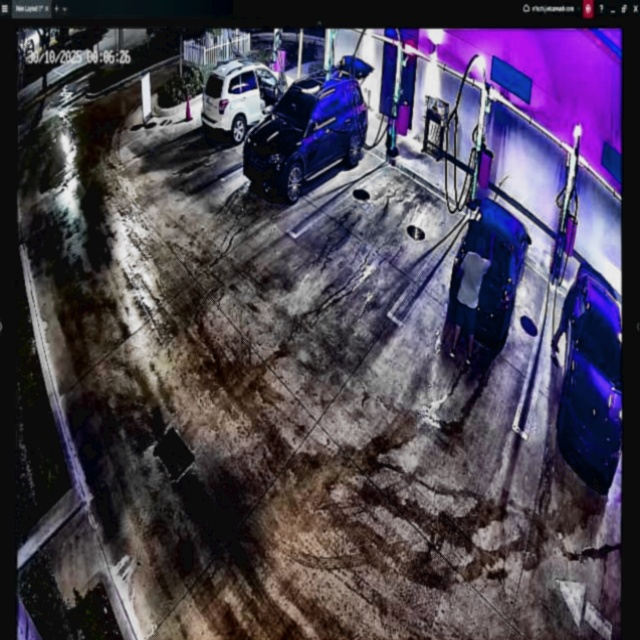Car: (244, 73, 370, 203), (450, 199, 533, 351)
